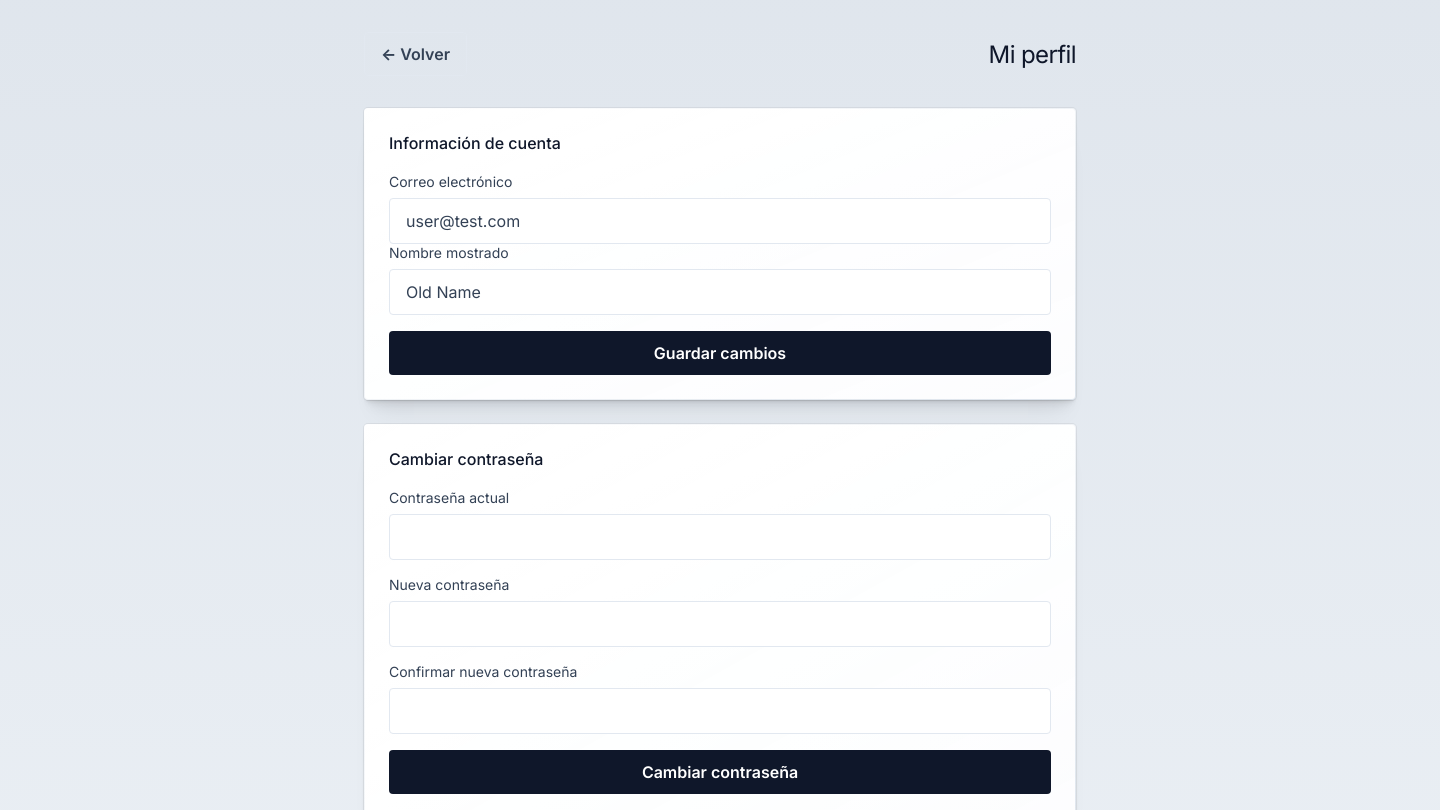
Test case: ProfileView › updates the display name, refreshes the session and shows a toast
Replace the text in the field labelled "Nombre mostrado" with "New Name": (720, 292) [389,269,1051,315]
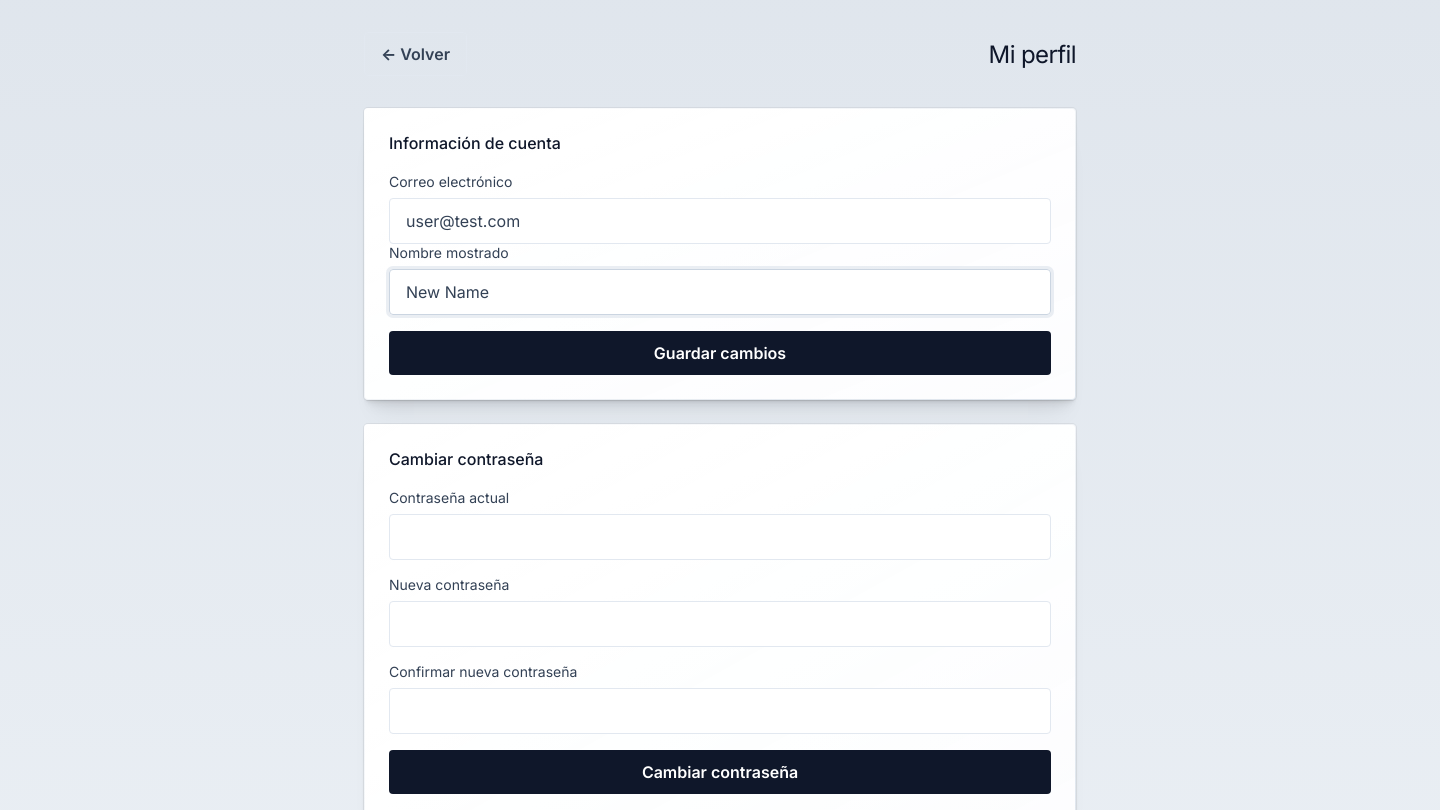
Click the button "Guardar cambios": (720, 353) [389,331,1051,375]
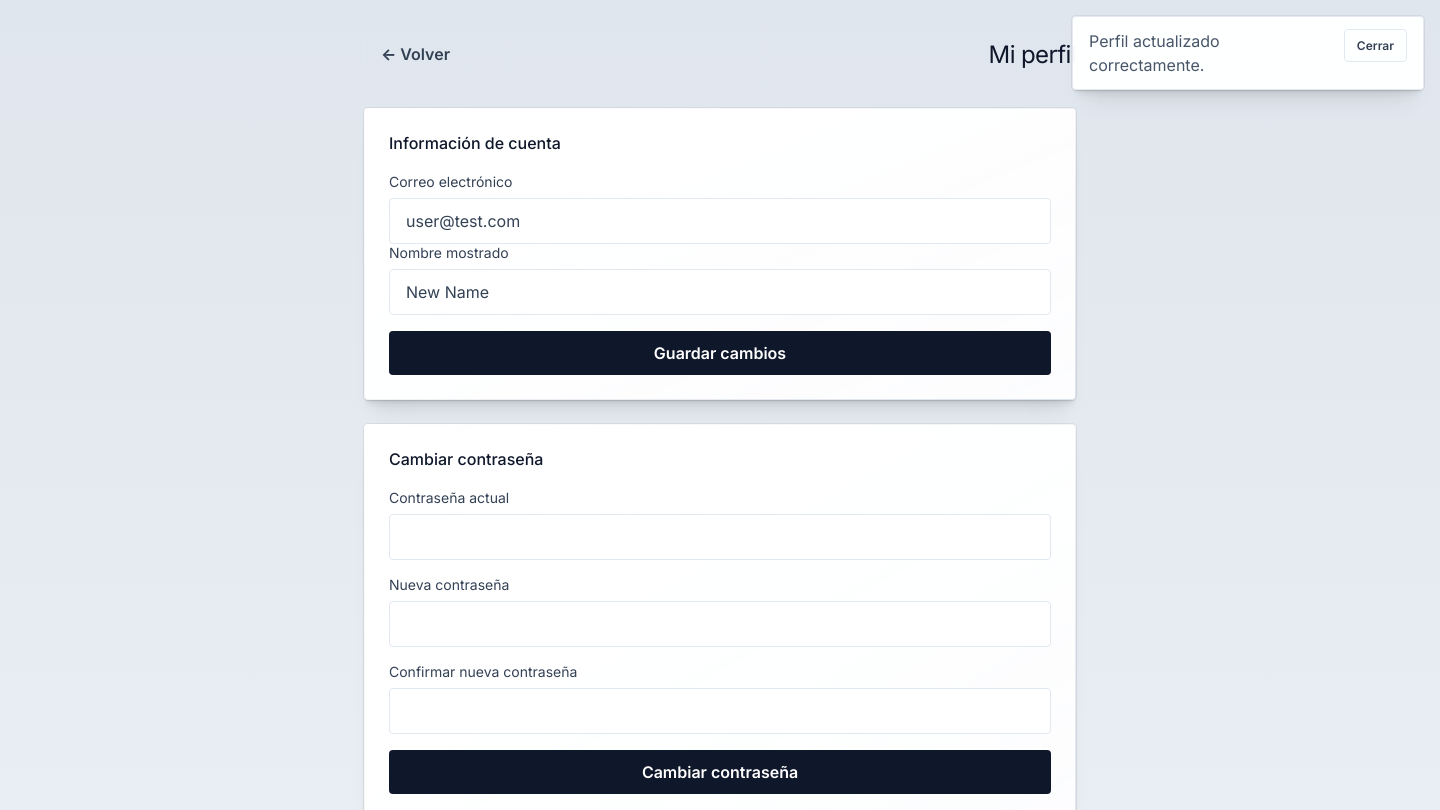
Expected: the text "Perfil actualizado correctamente." is shown, [1089,31,1220,75]
